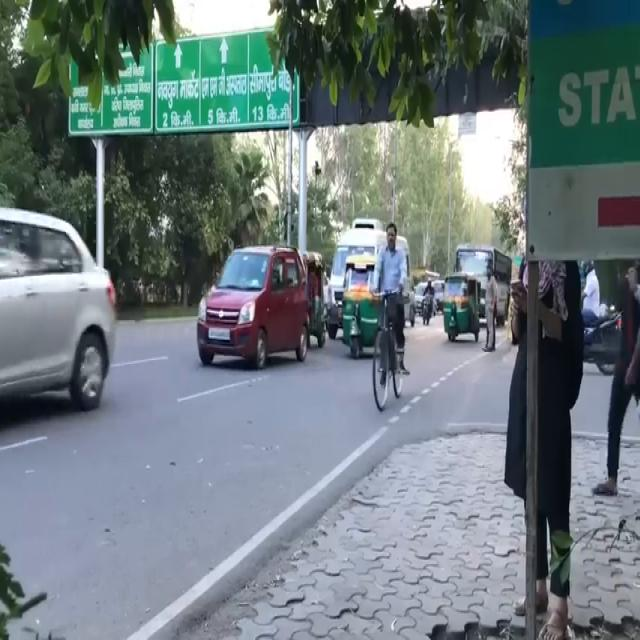BUS: (457, 242, 511, 322)
